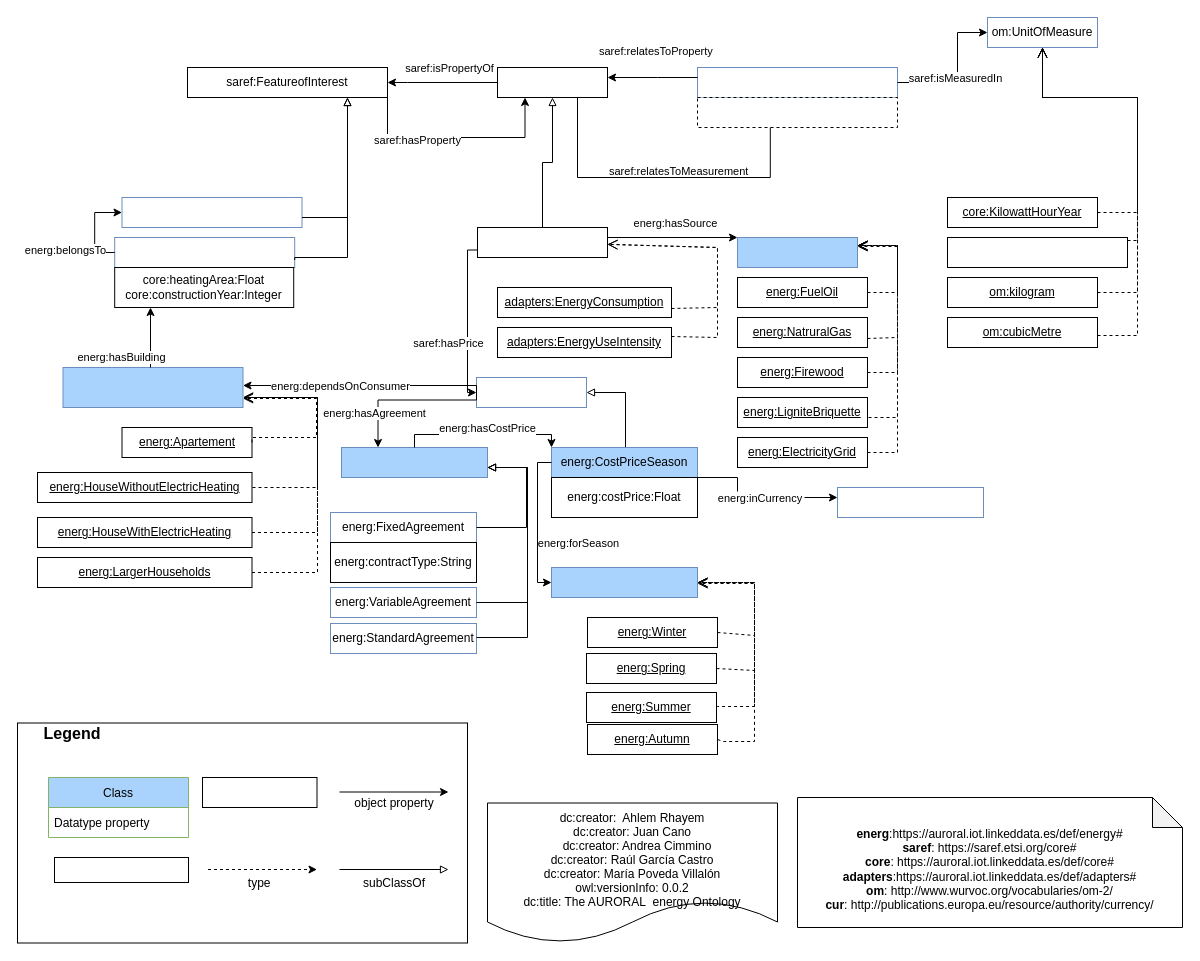
Some shapes in this 1200 by 961 pixel diagram are drawn without their labels. The centre of each missing label's shape, as x and y in pixels:
(F) saref:hasTimeStamp: dateTime saref:hasValue: the point at 797,112
adapters:EnergyProperty: the point at 542,242
core:Building: the point at 204,252
core:KiloWattHourSquareMeter: the point at 1037,252
core:Municipality: the point at 211,212
cur:Currency: the point at 910,502
energ:Consumer: the point at 152,387
energ:PriceAgreement: the point at 414,462
energ:Season: the point at 624,582
energ:SourceEnergy: the point at 797,252
Instance: the point at 121,869
Reused class: the point at 259,792
saref:Measurement: the point at 797,82
saref:Price: the point at 531,392
saref:Property: the point at 552,82
